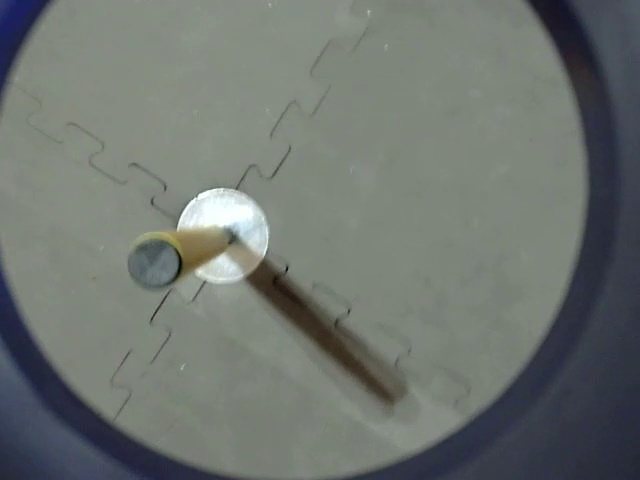tip: (118, 221, 199, 304)
